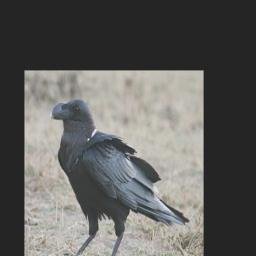Crow: (48, 98, 189, 256)
